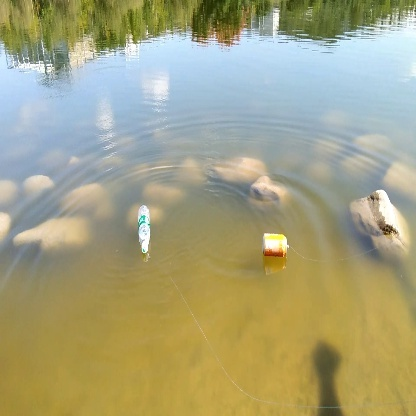bottle: (258, 228, 297, 263), (137, 202, 158, 257)
